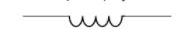inductor: (61, 8, 130, 29)
